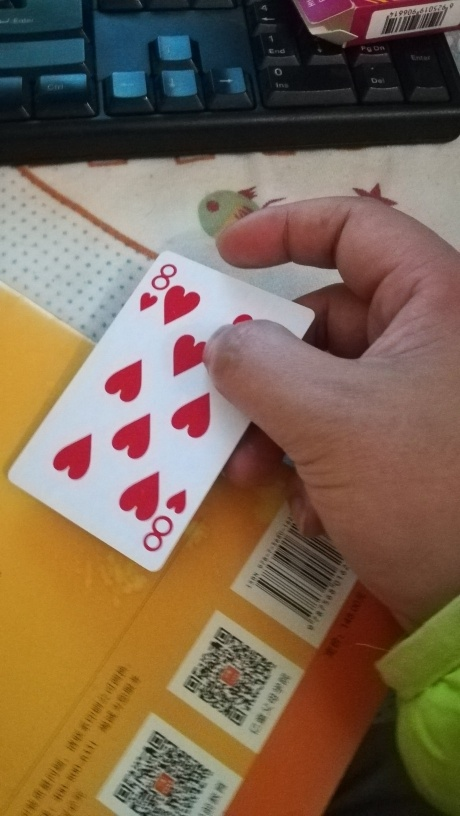hx 8: (1, 244, 317, 572)
